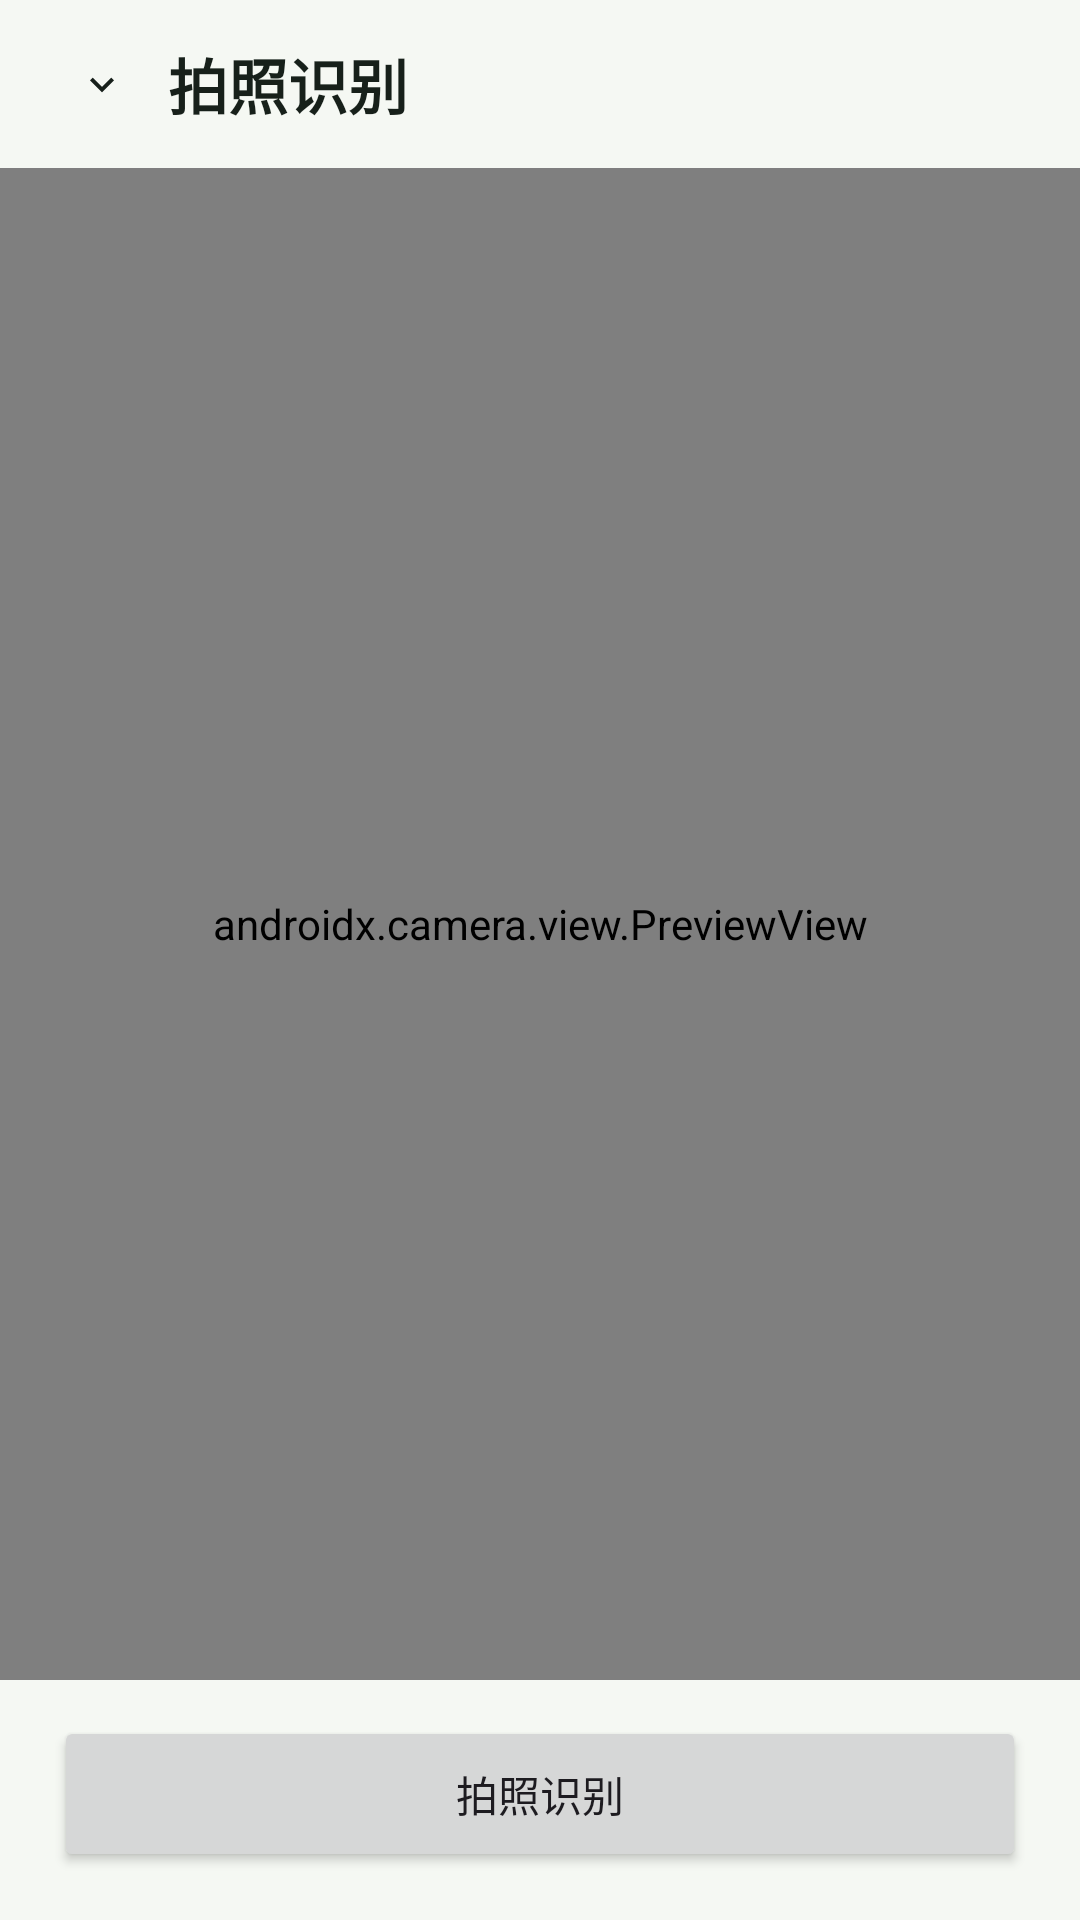

Named icons in this screenshot (1080 x 1920) and their centers, (x,y):
返回: (102,84)
